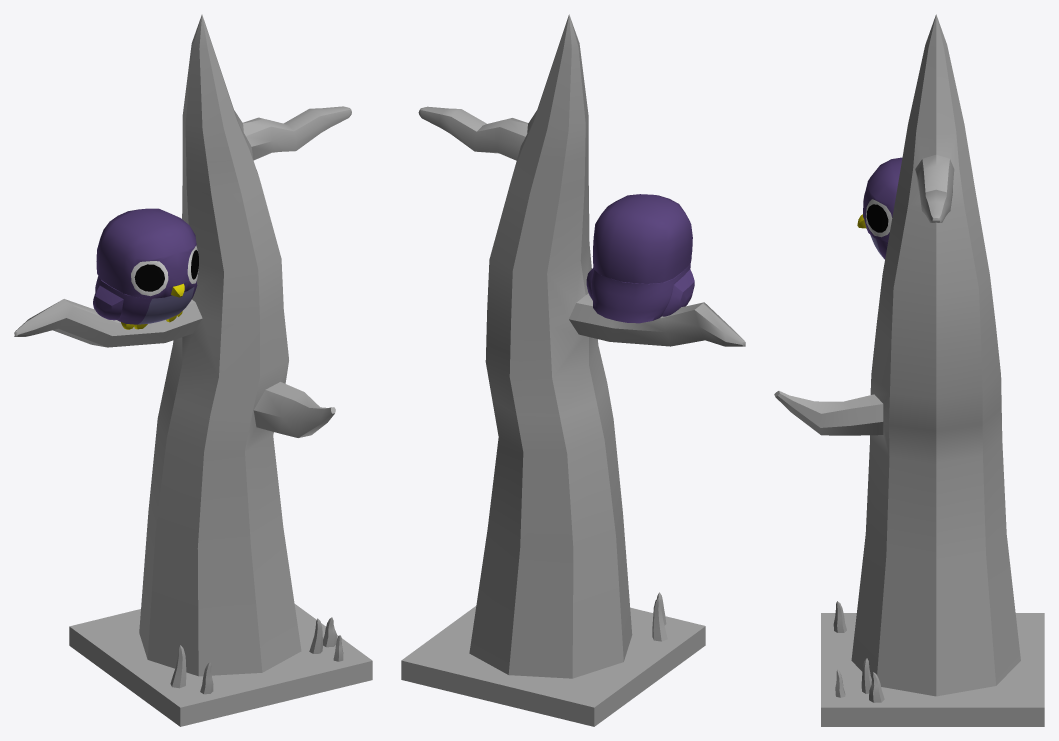
File: Chouette_perchoir.fbx
3 renders of one model, left to right at view 1: azimuth 30°, elevation 25°; view 2: azimuth 150°, elevation 25°; view 3: azimuth 270°, elevation 25°, orthographic.
Visible parts, largest first — view 1: Perchoire, polySurface2; view 2: Perchoire, polySurface2; view 3: Perchoire, polySurface2.
Boxes of the visible parts, x1=… form: Perchoire: x1=14, y1=14, x2=372, y2=726; polySurface2: x1=93, y1=208, x2=198, y2=329; Perchoire: x1=401, y1=14, x2=745, y2=726; polySurface2: x1=586, y1=194, x2=694, y2=323; Perchoire: x1=774, y1=14, x2=1044, y2=726; polySurface2: x1=857, y1=157, x2=902, y2=259.
Bounding box in the file's own units: 1.72 × 3.24 × 1.21.
